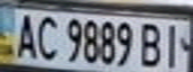8: (78, 16, 100, 64), (97, 18, 118, 65)
9: (115, 19, 139, 67), (60, 15, 84, 63)
A: (9, 10, 39, 60)
B: (136, 20, 166, 69)
C: (33, 11, 60, 62)
I: (157, 20, 187, 69)
